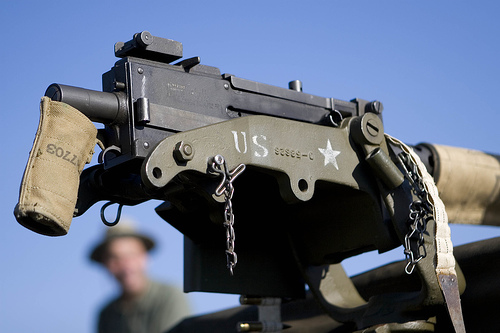rifle: (25, 23, 481, 290)
